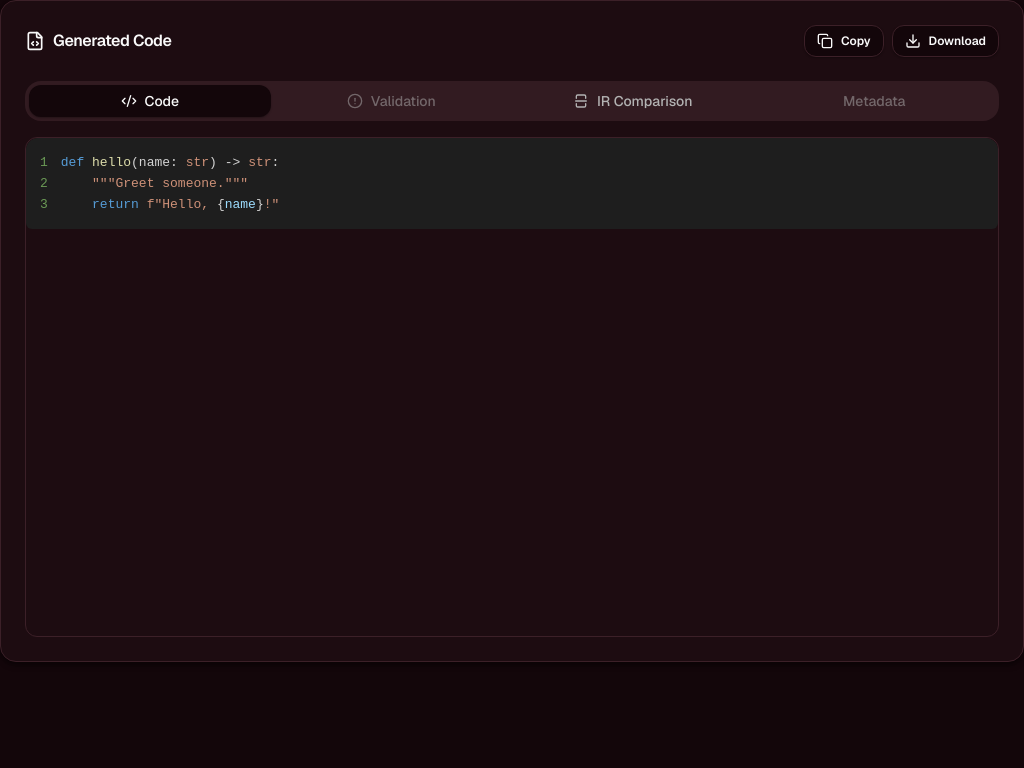
it: CodePreview › switches to IR comparison tab when clicked
Click the tab "IR Comparison" at (633, 101), box [512,85,754,117]
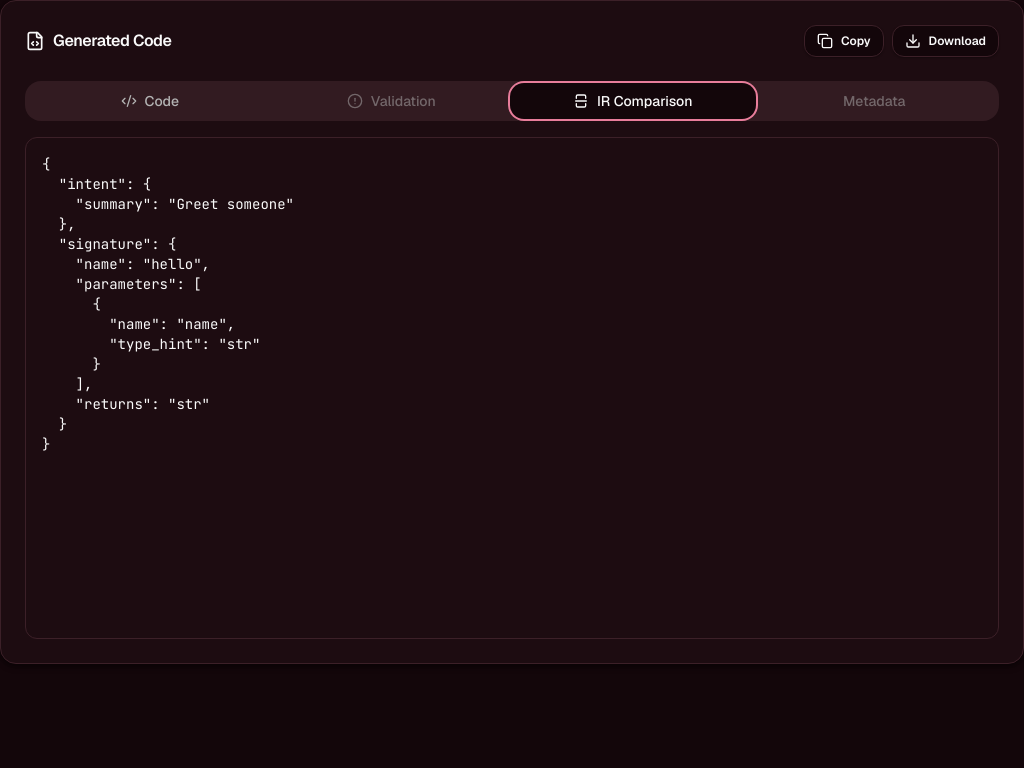
expect the text "\"intent\"" is shown: met, box [42,155,294,453]
